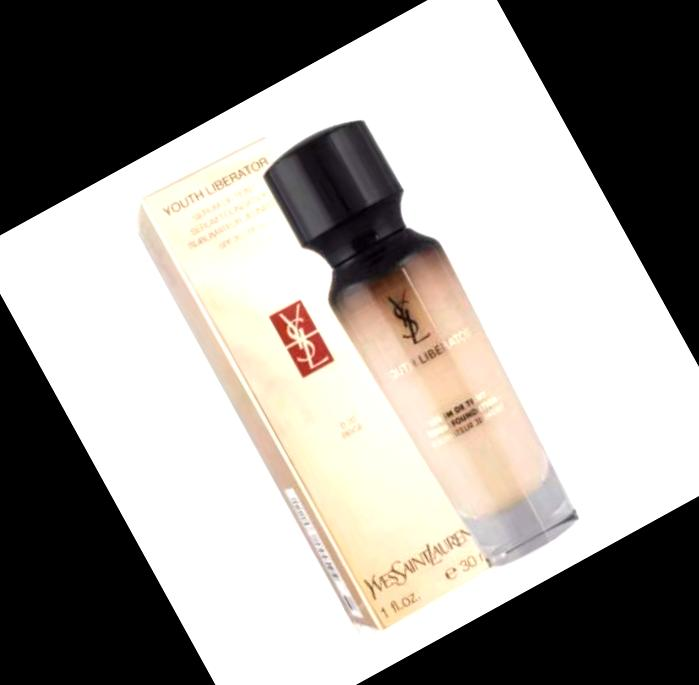cosmetic: (257, 112, 592, 579)
